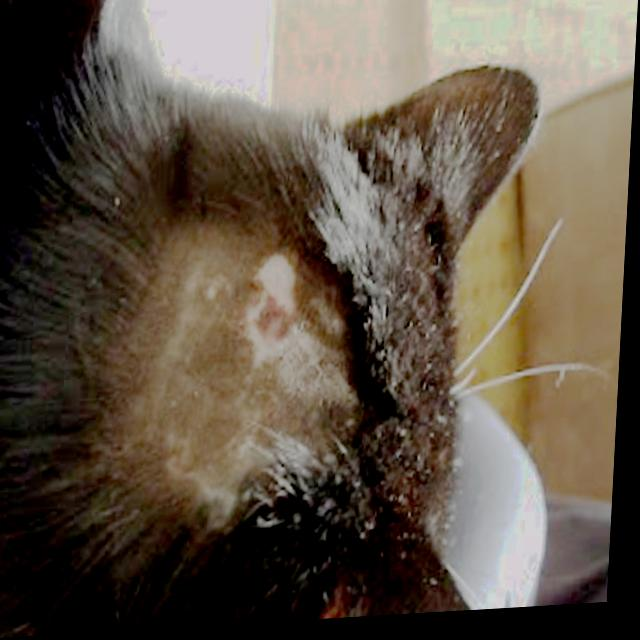ringworm: (162, 257, 358, 494)
